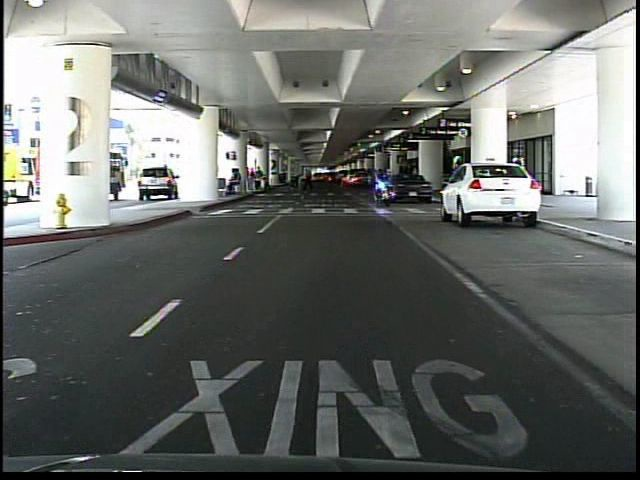person: (448, 151, 467, 219)
